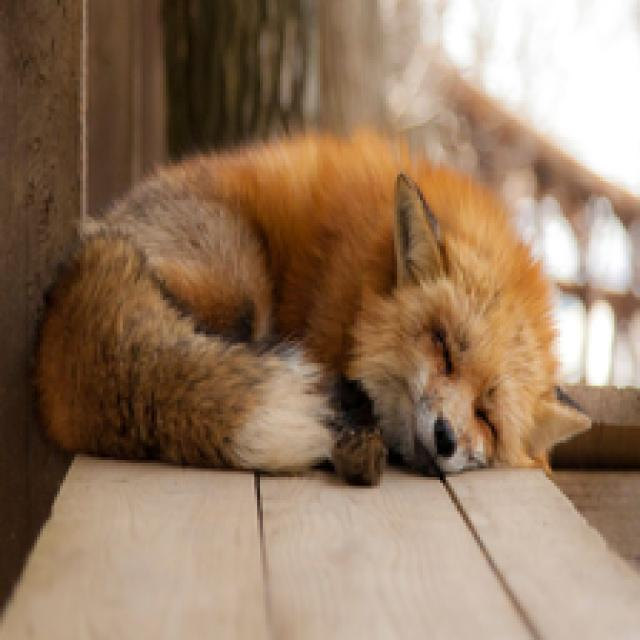fox: (0, 126, 640, 514)
